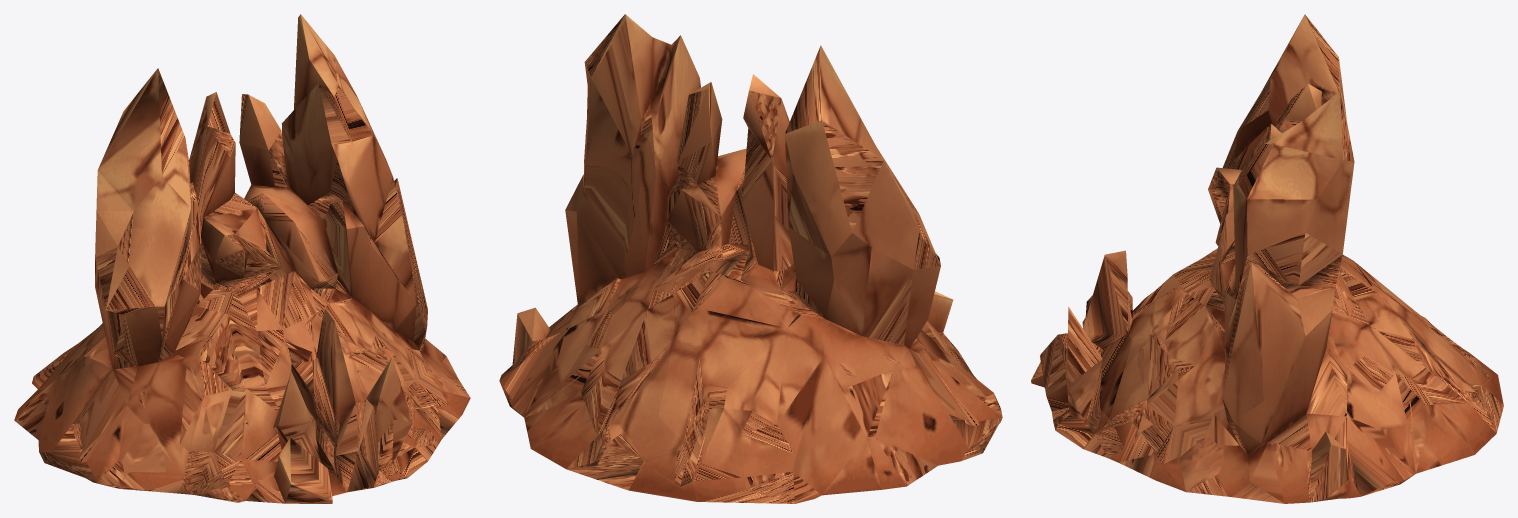
The model's file is cover_half_temple_v6.glb.
3 renders of one model, left to right at view 1: azimuth 30°, elevation 25°; view 2: azimuth 150°, elevation 25°; view 3: azimuth 270°, elevation 25°, orthographic. The views are drawn at different scales.
Visible parts, largest first — view 1: Mesh_0; view 2: Mesh_0; view 3: Mesh_0.
Part boxes in pixels (x1,y1,x2,y2): Mesh_0: (14, 14, 470, 503); Mesh_0: (499, 14, 1002, 503); Mesh_0: (1031, 14, 1503, 503).
Bounding box in the file's own units: 0.9599 × 0.7984 × 0.9515.
1 material, 1 textured.
